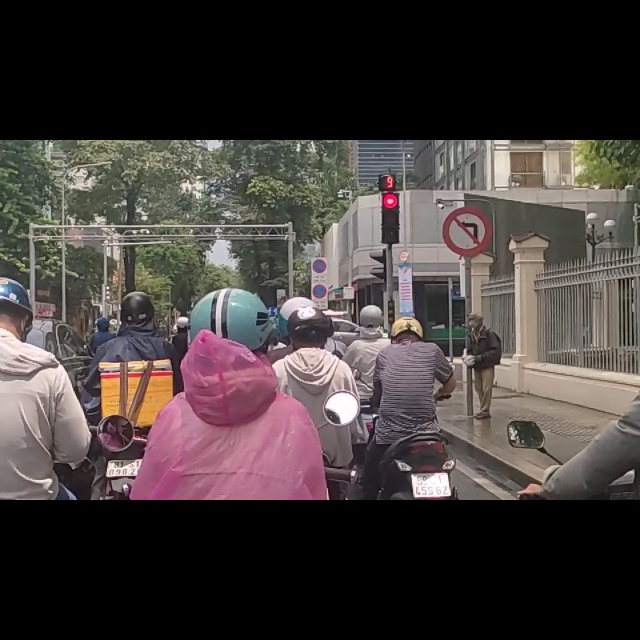bien_cam: (441, 114, 493, 210), (311, 210, 327, 237), (311, 256, 327, 283)
